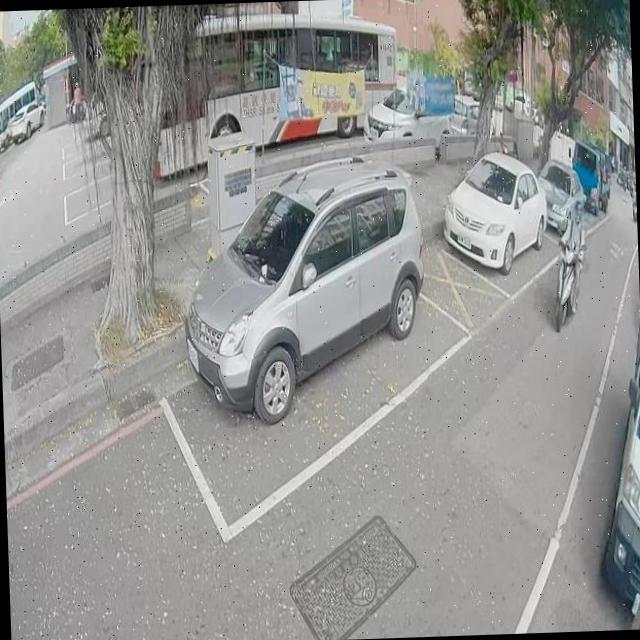person: (555, 200, 588, 316), (69, 76, 82, 122)
